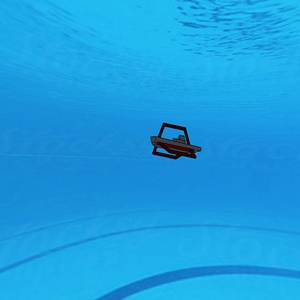submarine: (149, 120, 201, 161)
